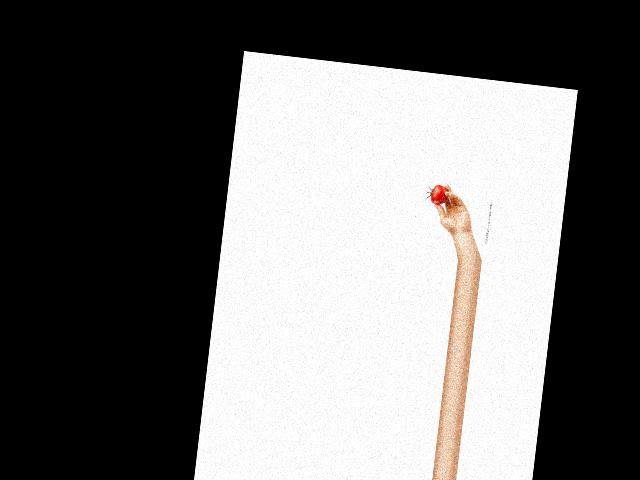tomato: (430, 184, 449, 206)
